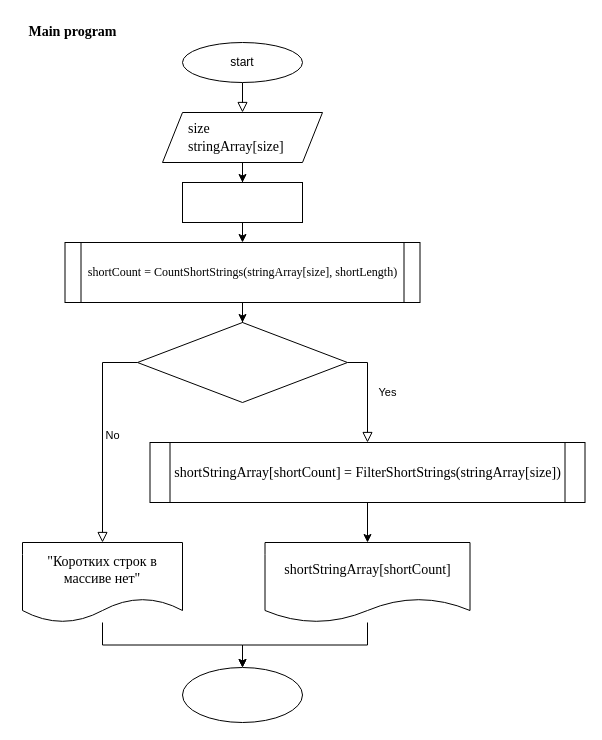
This 602x740 diagram has some shape labels left out. The shapes that lost their labels are listed below. From the top down, each one's centre as x and y in pixels, then its label:
(x=242, y=202): shortLength = 3
(x=242, y=362): counter != 0
(x=242, y=694): end
